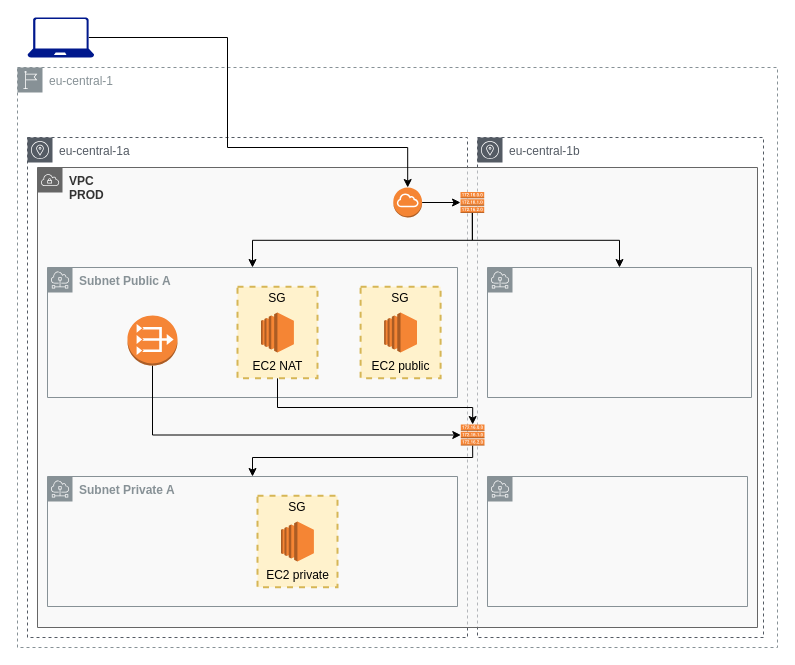
The diagram is 795 pixels wide and 665 high, and some of its shapes have lost their labels. Here are the shapes that lost their labels. From the top down, the centre of each, then its label:
At point 407,202: "Internet gateway".
At point 472,202: "Route table PUBLIC".
At point 152,340: "NAT gateway".
At point 619,332: "Subnet Public B".
At point 472,435: "Route table PRIVATE".
At point 617,541: "Subnet Private B".
